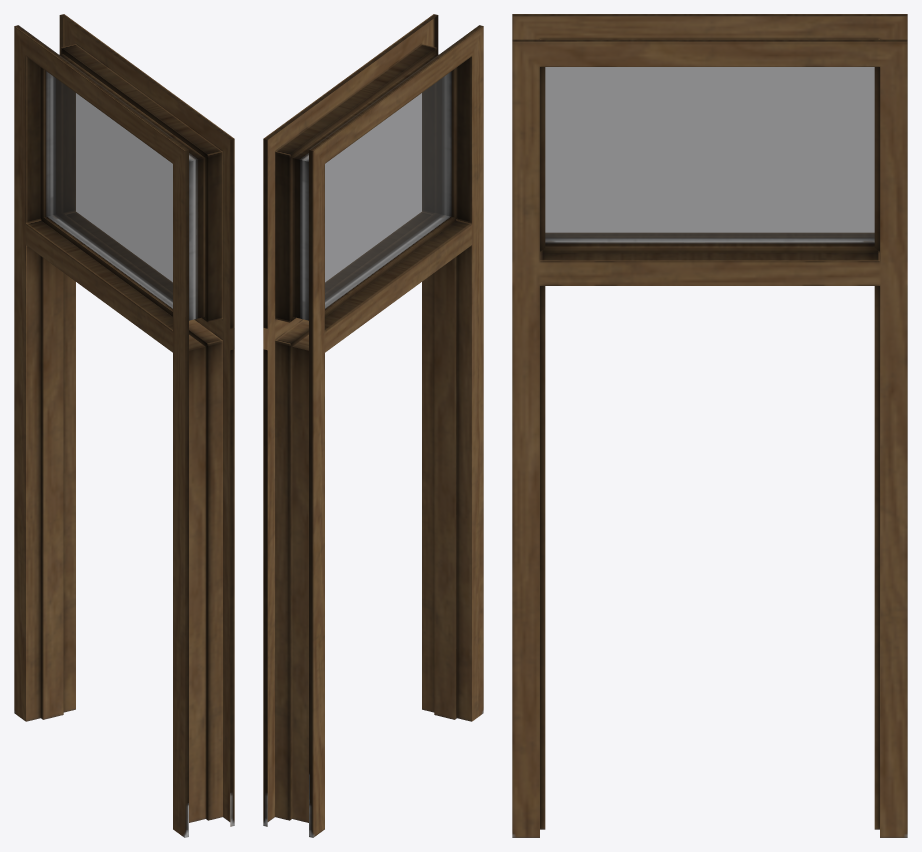
File: Door Frame B.fbx
3 views of the same model, side by side, from view 1: azimuth 30°, elevation 25°; view 2: azimuth 150°, elevation 25°; view 3: azimuth 270°, elevation 25° (orthographic). The views are drawn at different scales.
Visible parts, largest first — view 1: Door_Frame_B; view 2: Door_Frame_B; view 3: Door_Frame_B.
Boxes of the visible parts, bbox=[...] form: Door_Frame_B: bbox=[14, 14, 234, 837]; Door_Frame_B: bbox=[263, 14, 483, 837]; Door_Frame_B: bbox=[512, 14, 907, 837].
Bounding box in the file's own units: 24.37 × 320 × 144.
